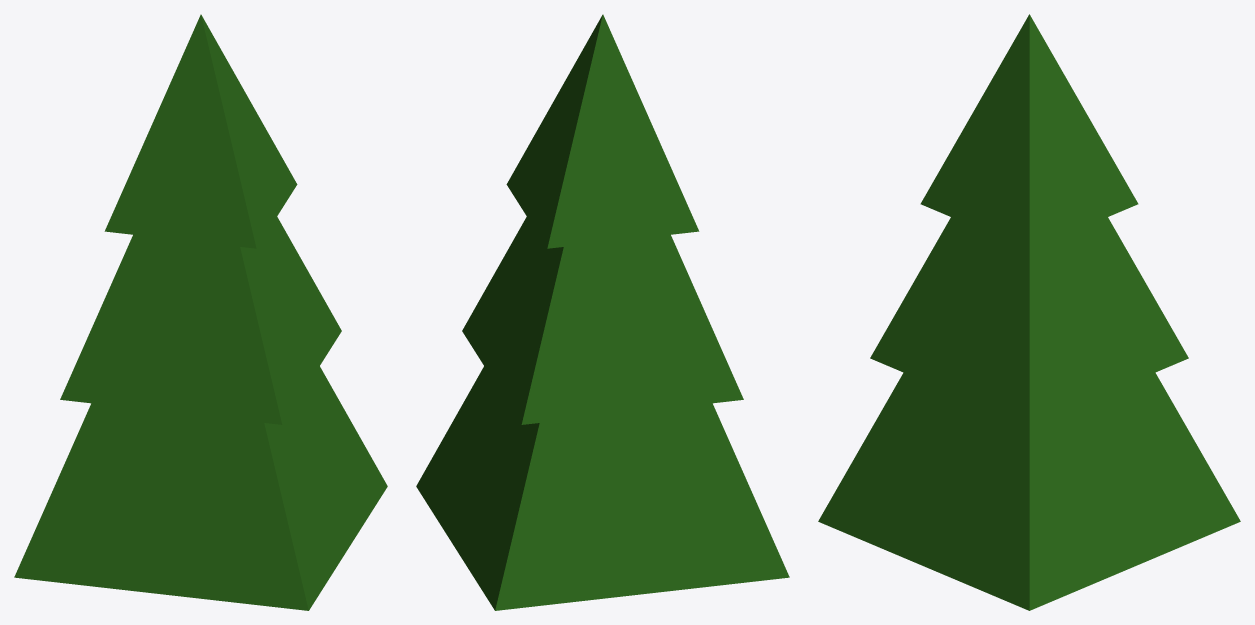
File: Tree.fbx
3 views of the same model, side by side, from view 1: azimuth 30°, elevation 25°; view 2: azimuth 150°, elevation 25°; view 3: azimuth 270°, elevation 25° (orthographic). The views are drawn at different scales.
Parts seen in each view (by area): view 1: Arbol 3; view 2: Arbol 3; view 3: Arbol 3.
Part boxes in pixels (x1=…): Arbol 3: x1=14, y1=14, x2=387, y2=610; Arbol 3: x1=416, y1=14, x2=789, y2=610; Arbol 3: x1=818, y1=14, x2=1240, y2=610.
Size of the model in its own units: 61.11 by 80.94 by 61.11.
